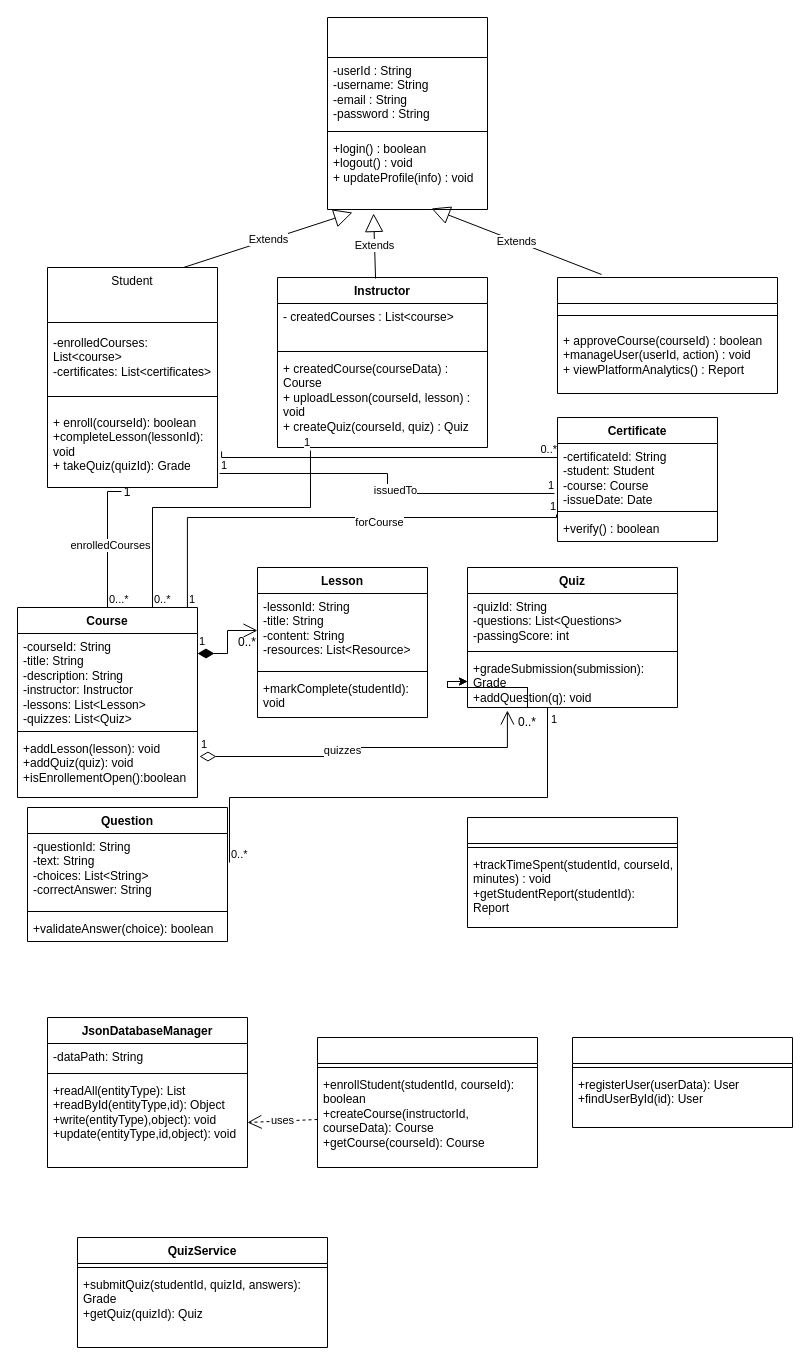
Some shapes in this 810 by 1368 pixel diagram are drawn without their labels. The box of each missing label's shape, as (x1, y1, x2, y2) in pixels:
Admin: (556, 276, 778, 394)
Analytics: (466, 816, 678, 928)
CourseService: (316, 1036, 538, 1168)
User {abstract}: (326, 16, 488, 210)
UserService: (572, 1036, 792, 1128)
